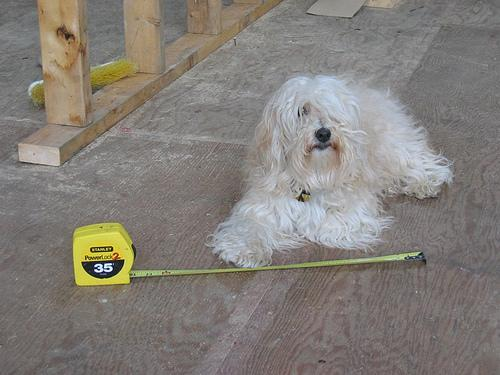dog-havanese: (253, 74, 365, 168)
